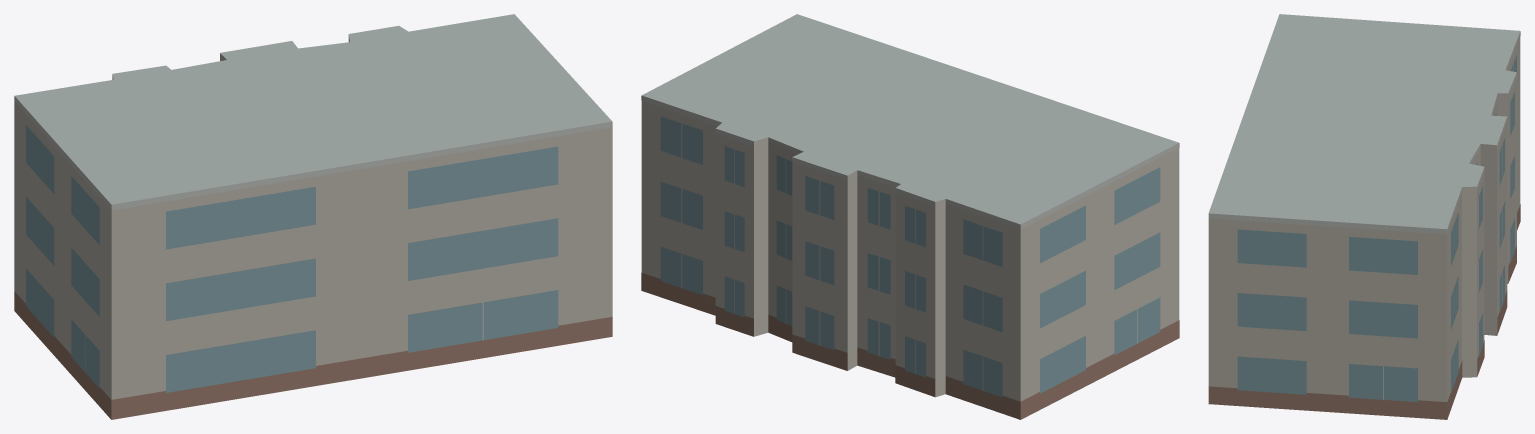
The model's file is survey-upis-32676487.glb.
3 views of the same model, side by side, from view 1: azimuth 30°, elevation 25°; view 2: azimuth 150°, elevation 25°; view 3: azimuth 270°, elevation 25° (orthographic). The views are drawn at different scales.
Parts seen in each view (by area): view 1: survey-upis-32676487.tmp; view 2: survey-upis-32676487.tmp; view 3: survey-upis-32676487.tmp.
Part boxes in pixels (x1=…): survey-upis-32676487.tmp: x1=14, y1=14, x2=612, y2=419; survey-upis-32676487.tmp: x1=641, y1=14, x2=1179, y2=419; survey-upis-32676487.tmp: x1=1208, y1=14, x2=1520, y2=419.
Bounding box in the file's own units: 22.16 × 9.15 × 13.58.
